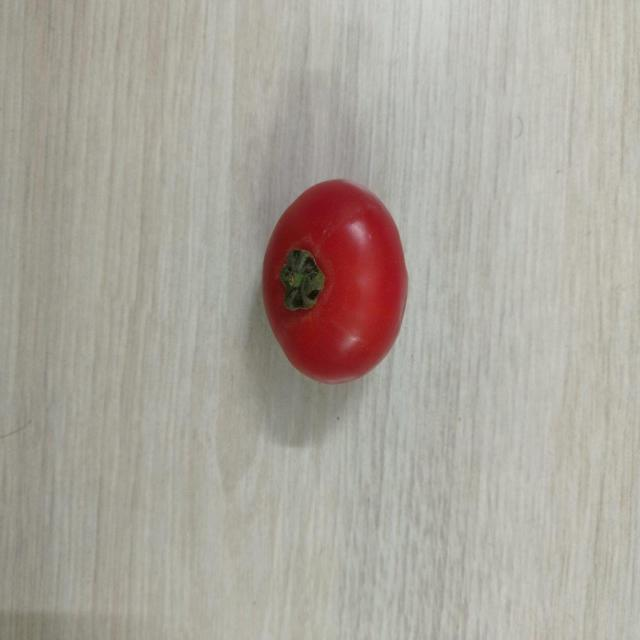Tomato: (263, 177, 412, 388)
